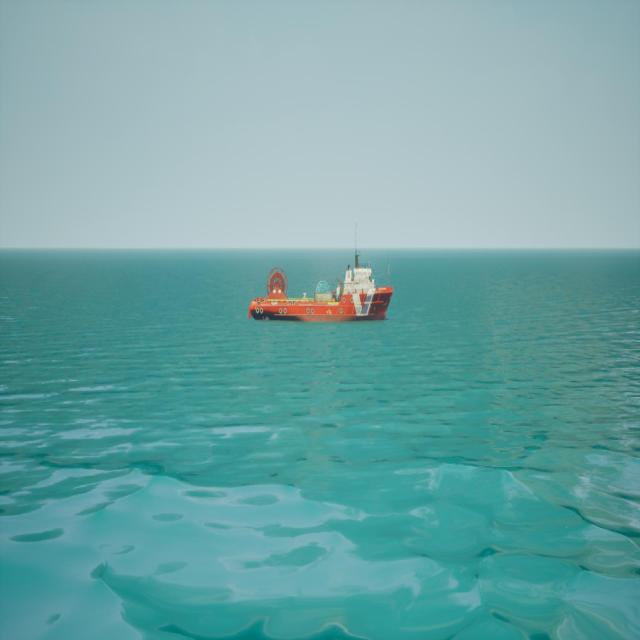tug boat: (249, 228, 395, 325)
